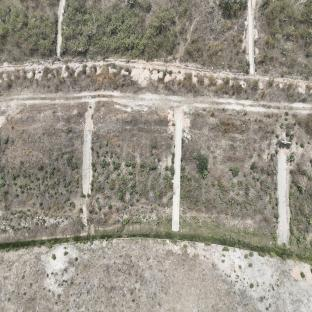rock_toe: (184, 213, 261, 240), (3, 210, 77, 234), (113, 207, 169, 226)
slope_drain: (276, 149, 291, 248), (172, 110, 182, 231), (82, 116, 93, 196), (248, 0, 255, 74), (56, 0, 65, 57)
toe_drain: (2, 233, 310, 264)
